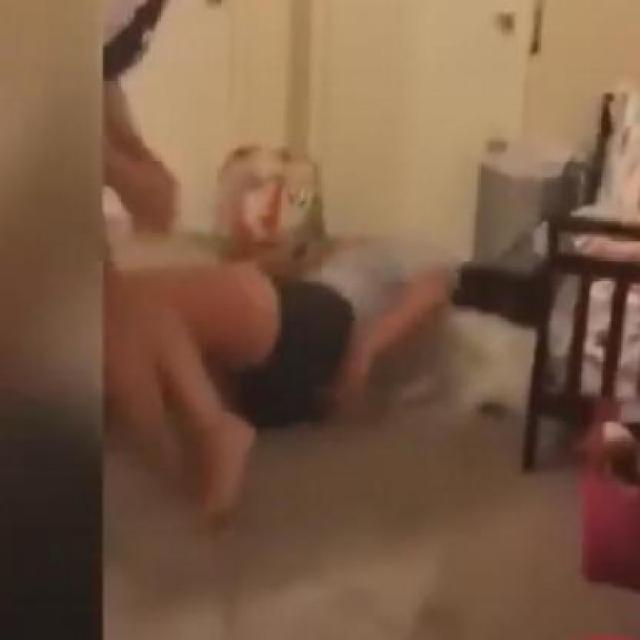fall: (112, 243, 465, 499)
